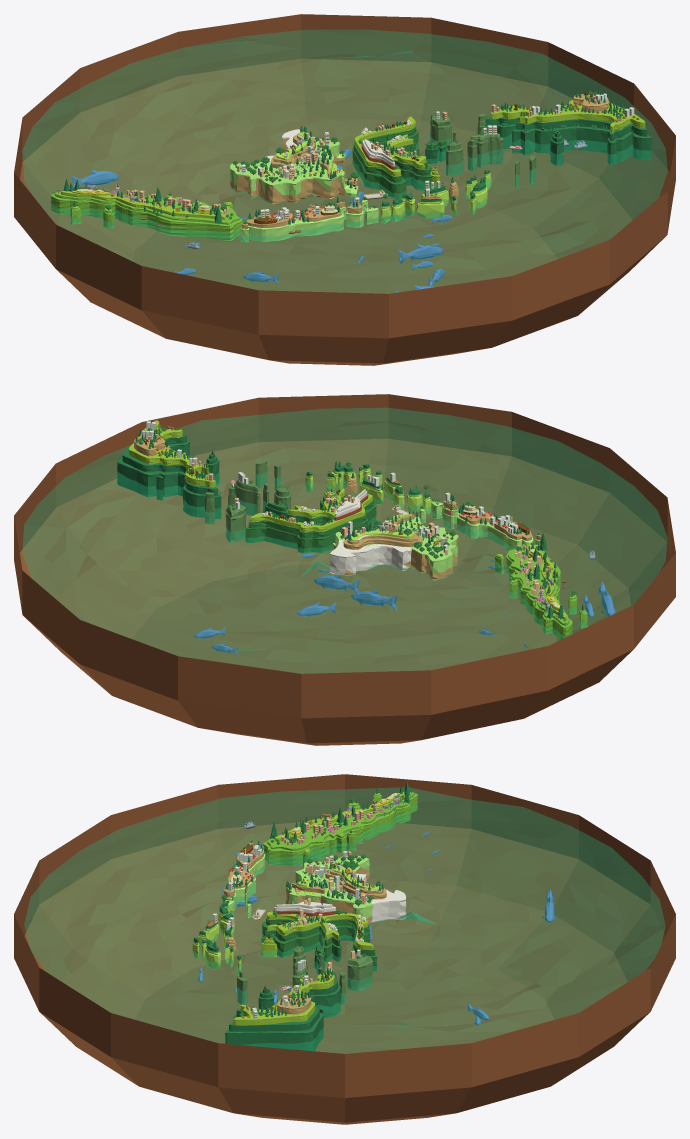
File: indonesia.glb
3 views of the same model, one above another, from view 1: azimuth 30°, elevation 25°; view 2: azimuth 150°, elevation 25°; view 3: azimuth 270°, elevation 25° (orthographic).
Visible parts, largest first — view 1: Sphere, Circle, Plane.040, Plane.090, Plane, Plane.095, Plane.089, Plane.007, Plane.092, Plane.054, Plane.057, Plane.091 (+4 smaller); view 2: Sphere, Circle, Plane.040, Plane.090, Plane.095, Plane.089, Plane, Plane.054, Plane.007, Plane.057, Plane.092, Plane.056 (+3 smaller); view 3: Sphere, Circle, Plane.040, Plane, Plane.090, Plane.095, Plane.089, Plane.054, Plane.092, Plane.057, Plane.001, Plane.056 (+2 smaller).
Part boxes in pixels (<box>): Sphere: <box>14,14,675,365</box>; Circle: <box>22,30,667,293</box>; Plane.040: <box>230,129,358,204</box>; Plane.090: <box>484,124,651,165</box>; Plane: <box>51,193,242,240</box>; Plane.095: <box>430,113,536,187</box>; Plane.089: <box>380,170,491,223</box>; Plane.007: <box>240,200,378,242</box>; Plane.092: <box>491,100,645,132</box>; Plane.054: <box>352,129,432,198</box>; Plane.057: <box>354,116,426,176</box>; Plane.091: <box>485,116,647,141</box>; Sphere: <box>14,394,675,745</box>; Circle: <box>22,408,667,673</box>; Plane.040: <box>330,514,458,580</box>; Plane.090: <box>117,440,221,519</box>; Plane.095: <box>205,461,290,542</box>; Plane.089: <box>305,464,431,515</box>; Plane: <box>495,545,587,639</box>; Plane.054: <box>245,500,376,553</box>; Plane.007: <box>419,501,540,550</box>; Plane.057: <box>250,488,372,532</box>; Plane.092: <box>129,420,215,487</box>; Plane.056: <box>248,493,373,538</box>; Sphere: <box>14,774,675,1124</box>; Circle: <box>24,787,665,1053</box>; Plane.040: <box>286,855,406,924</box>; Plane: <box>263,793,417,867</box>; Plane.090: <box>225,984,340,1051</box>; Plane.095: <box>237,946,373,1004</box>; Plane.089: <box>192,902,241,975</box>; Plane.054: <box>261,921,377,971</box>; Plane.092: <box>233,968,334,1025</box>; Plane.057: <box>267,911,373,949</box>; Plane.001: <box>267,792,414,850</box>; Plane.056: <box>265,917,375,956</box>.
Size of the model in its own units: 71.52 by 17.34 by 71.52.
